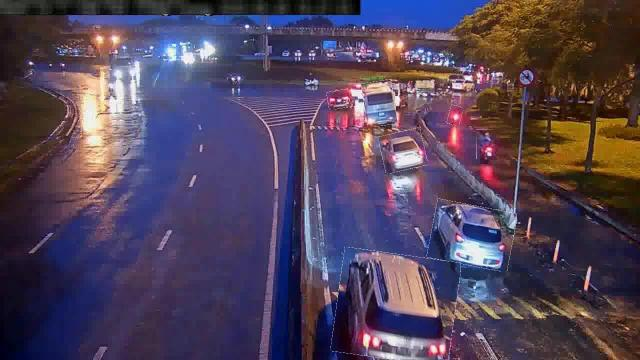Bike: (478, 130, 494, 160), (448, 106, 462, 126)
Bus: (364, 80, 396, 126)
Car: (334, 250, 458, 360), (429, 202, 515, 268), (380, 130, 426, 172), (328, 89, 358, 109), (348, 84, 368, 96)
